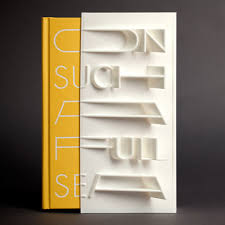book: (40, 10, 179, 214)
